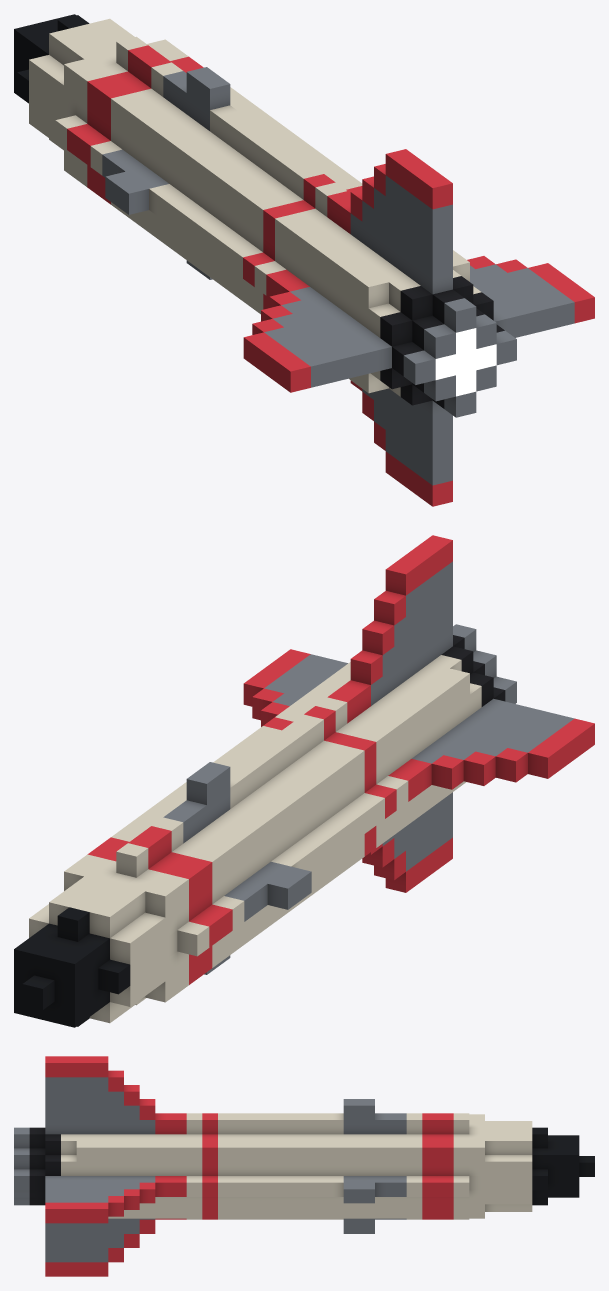
The model's file is hellstorm.glb.
The picture shows the model from 3 angles, top to bottom: view 1: azimuth 30°, elevation 25°; view 2: azimuth 150°, elevation 25°; view 3: azimuth 270°, elevation 25°; orthographic projection. The views are drawn at different scales.
Parts seen in each view (by area): view 1: hellstorm_body; view 2: hellstorm_body; view 3: hellstorm_body.
Boxes of the visible parts, bbox=[...] form: hellstorm_body: bbox=[14, 14, 594, 506]; hellstorm_body: bbox=[14, 535, 594, 1027]; hellstorm_body: bbox=[14, 1056, 594, 1276].
Bounding box in the file's own units: 0.75 × 0.75 × 1.85.
1 material, 1 textured.
